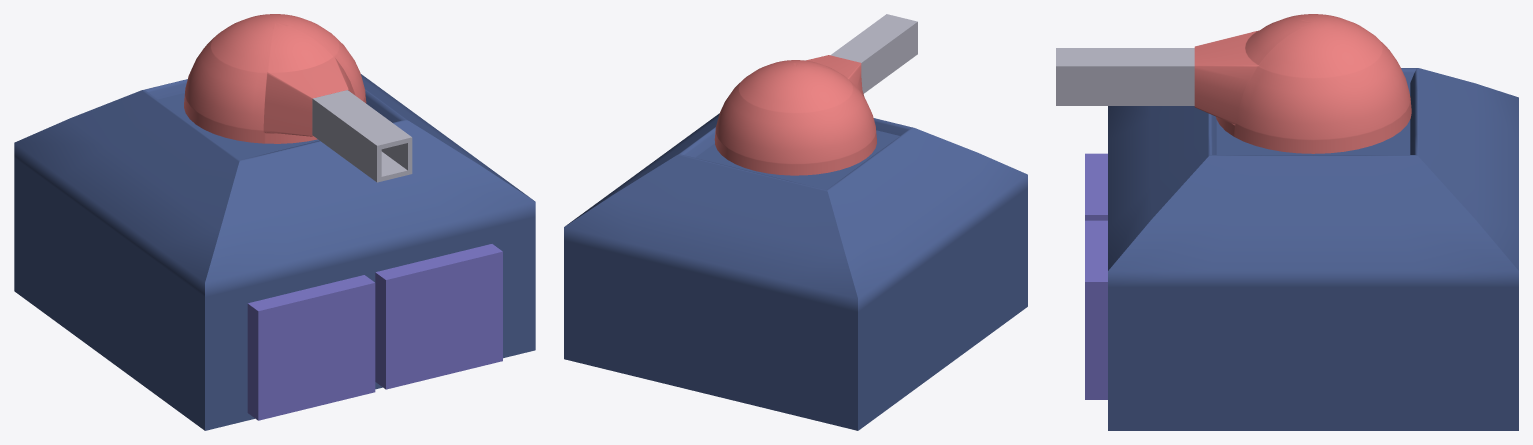
File: home-base.fbx
3 views of the same model, side by side, from view 1: azimuth 30°, elevation 25°; view 2: azimuth 150°, elevation 25°; view 3: azimuth 270°, elevation 25° (orthographic). The views are drawn at different scales.
Visible parts, largest first — view 1: home_base, turret_body, base_left_door, base_right_door, turret_cannon; view 2: home_base, turret_body, turret_cannon; view 3: home_base, turret_body, turret_cannon, base_right_door, base_left_door.
Part boxes in pixels (bbox=[...]): home_base: bbox=[14, 74, 535, 430]; turret_body: bbox=[184, 14, 366, 143]; base_left_door: bbox=[247, 275, 375, 420]; base_right_door: bbox=[375, 244, 502, 389]; turret_cannon: bbox=[312, 90, 412, 182]; home_base: bbox=[564, 113, 1027, 430]; turret_body: bbox=[714, 55, 876, 175]; turret_cannon: bbox=[830, 14, 917, 93]; home_base: bbox=[1108, 68, 1518, 430]; turret_body: bbox=[1194, 14, 1411, 153]; turret_cannon: bbox=[1056, 48, 1194, 105]; base_right_door: bbox=[1085, 220, 1107, 399]; base_left_door: bbox=[1085, 153, 1107, 220].
Size of the model in its own units: 8 by 6.9 by 9.01.
